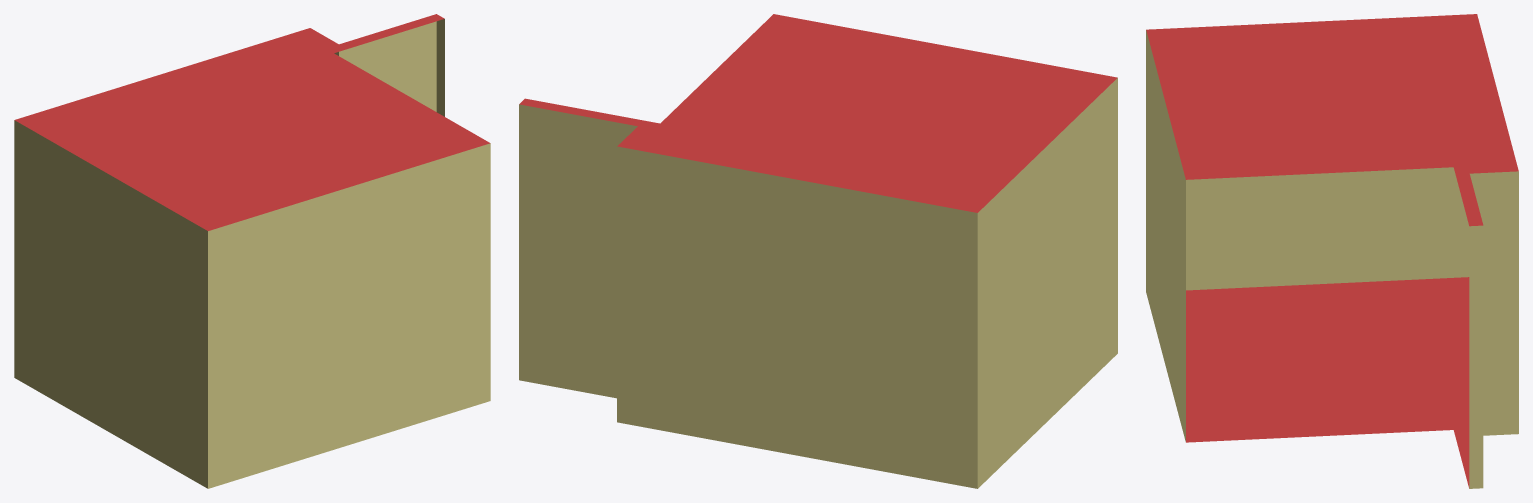
3 views of the same model, side by side, from view 1: azimuth 30°, elevation 25°; view 2: azimuth 150°, elevation 25°; view 3: azimuth 270°, elevation 25° (orthographic). The views are drawn at different scales.
Size of the model in its own units: 8.78 by 6.52 by 5.07.
